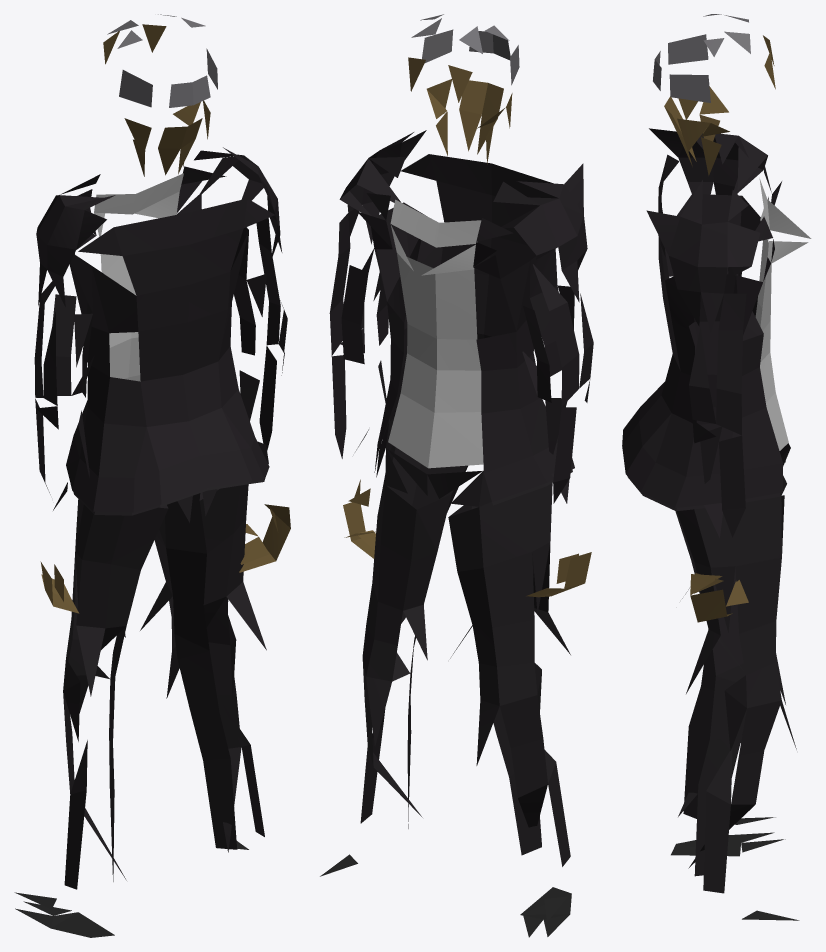
Rendered from personfar_4_idle.fbx.
The picture shows the model from 3 angles, left to right: view 1: azimuth 30°, elevation 25°; view 2: azimuth 150°, elevation 25°; view 3: azimuth 270°, elevation 25°; orthographic projection.
Visible parts, largest first — view 1: BaseHuman; view 2: BaseHuman; view 3: BaseHuman.
Part boxes in pixels (x1,y1,x2,y2): BaseHuman: (14, 14, 290, 937); BaseHuman: (320, 14, 593, 937); BaseHuman: (622, 14, 811, 920).
Size of the model in its own units: 0.2879 by 0.9737 by 0.1932.
